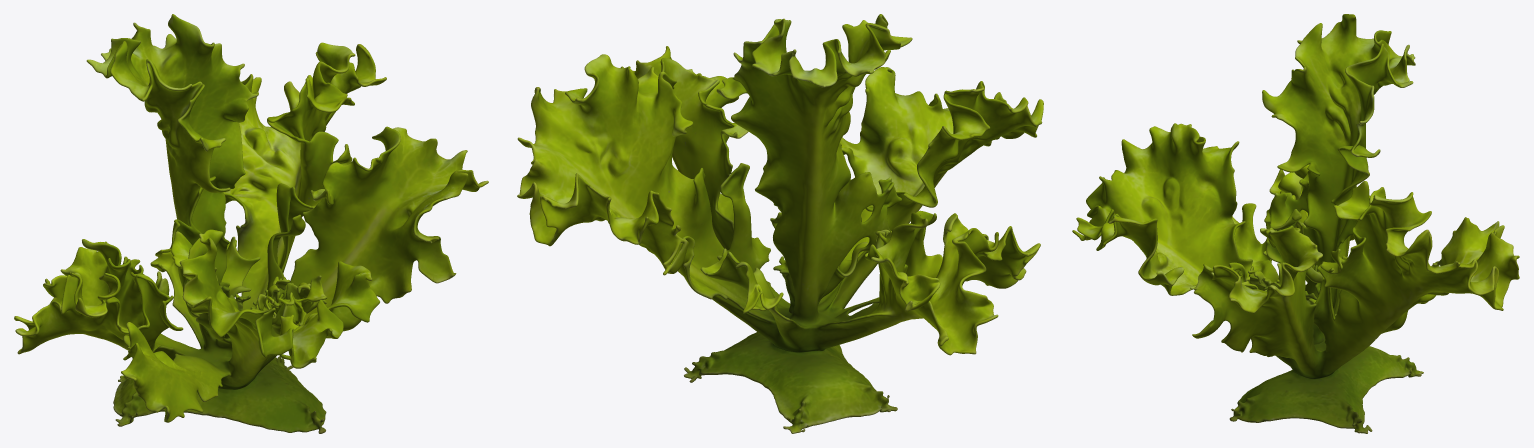
The model's file is limambo_vegetative.glb.
The picture shows the model from 3 angles, left to right: view 1: azimuth 30°, elevation 25°; view 2: azimuth 150°, elevation 25°; view 3: azimuth 270°, elevation 25°; orthographic projection. The views are drawn at different scales.
Visible parts, largest first — view 1: tripo_node_c457bcfc-9529-406c-aac7-7f3ceca5044c; view 2: tripo_node_c457bcfc-9529-406c-aac7-7f3ceca5044c; view 3: tripo_node_c457bcfc-9529-406c-aac7-7f3ceca5044c.
Boxes of the visible parts, x1,y1,x2,y2 form: tripo_node_c457bcfc-9529-406c-aac7-7f3ceca5044c: [14, 14, 488, 433]; tripo_node_c457bcfc-9529-406c-aac7-7f3ceca5044c: [517, 14, 1043, 433]; tripo_node_c457bcfc-9529-406c-aac7-7f3ceca5044c: [1072, 14, 1519, 433].
Size of the model in its own units: 0.9904 by 0.8549 by 1.
Materials: 1 (1 with a texture image).
